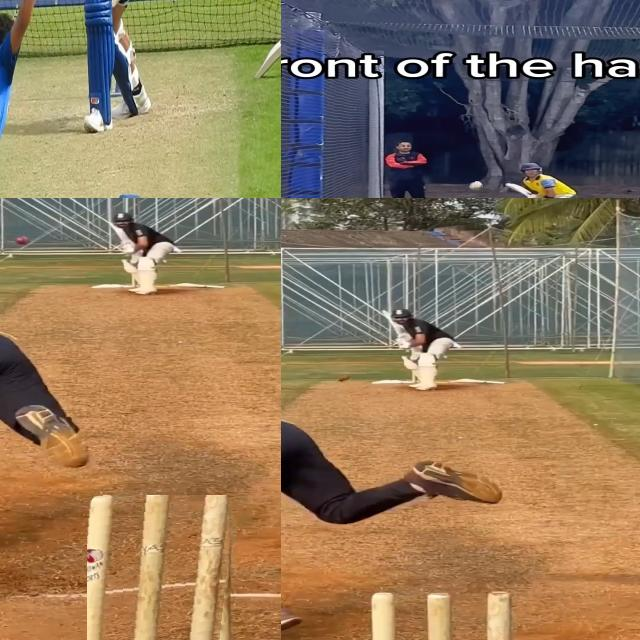Cricket ball: (15, 235, 31, 246), (469, 181, 483, 190), (338, 375, 352, 383)
Stumps: (87, 495, 236, 640), (363, 589, 516, 640)
